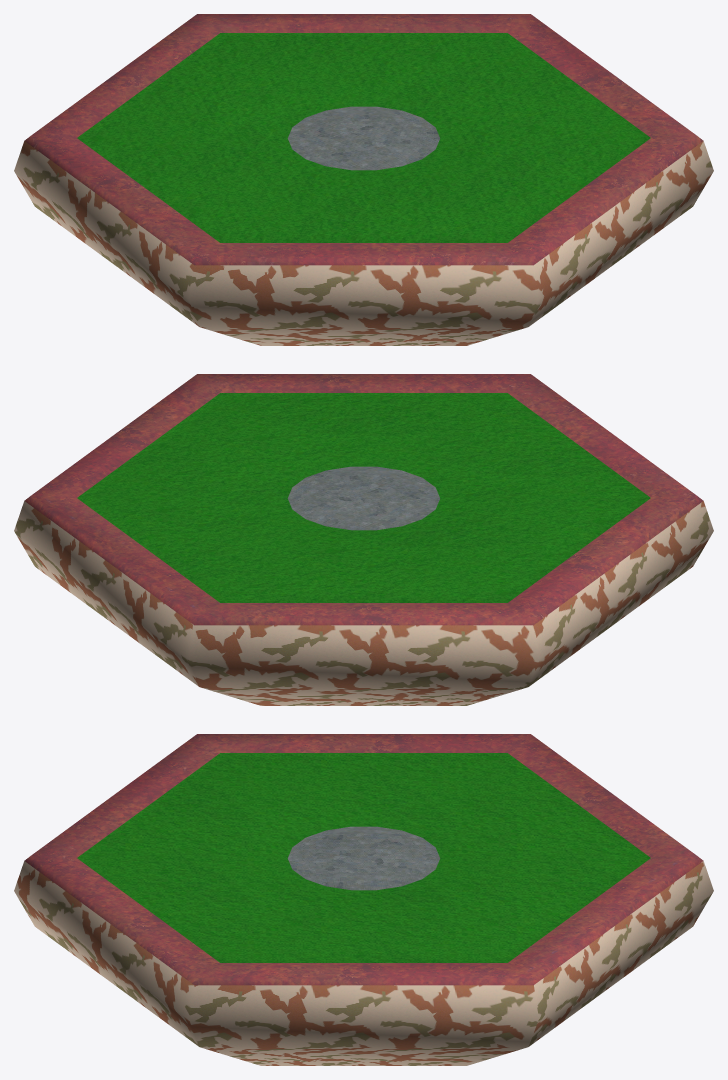
Rendered from FloatyLandBonusPlanet.fbx.
The picture shows the model from 3 angles, top to bottom: view 1: azimuth 30°, elevation 25°; view 2: azimuth 150°, elevation 25°; view 3: azimuth 270°, elevation 25°; orthographic projection.
Parts seen in each view (by area): view 1: Circle.003; view 2: Circle.003; view 3: Circle.003.
Part boxes in pixels (bbox=[...]): Circle.003: bbox=[14, 14, 713, 345]; Circle.003: bbox=[14, 374, 713, 705]; Circle.003: bbox=[14, 734, 713, 1065].
Bounding box in the file's own units: 223393 × 61335 × 257952.
Materials: 4 (4 with a texture image).
